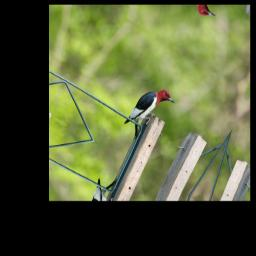Woodpecker: (123, 78, 178, 143)
